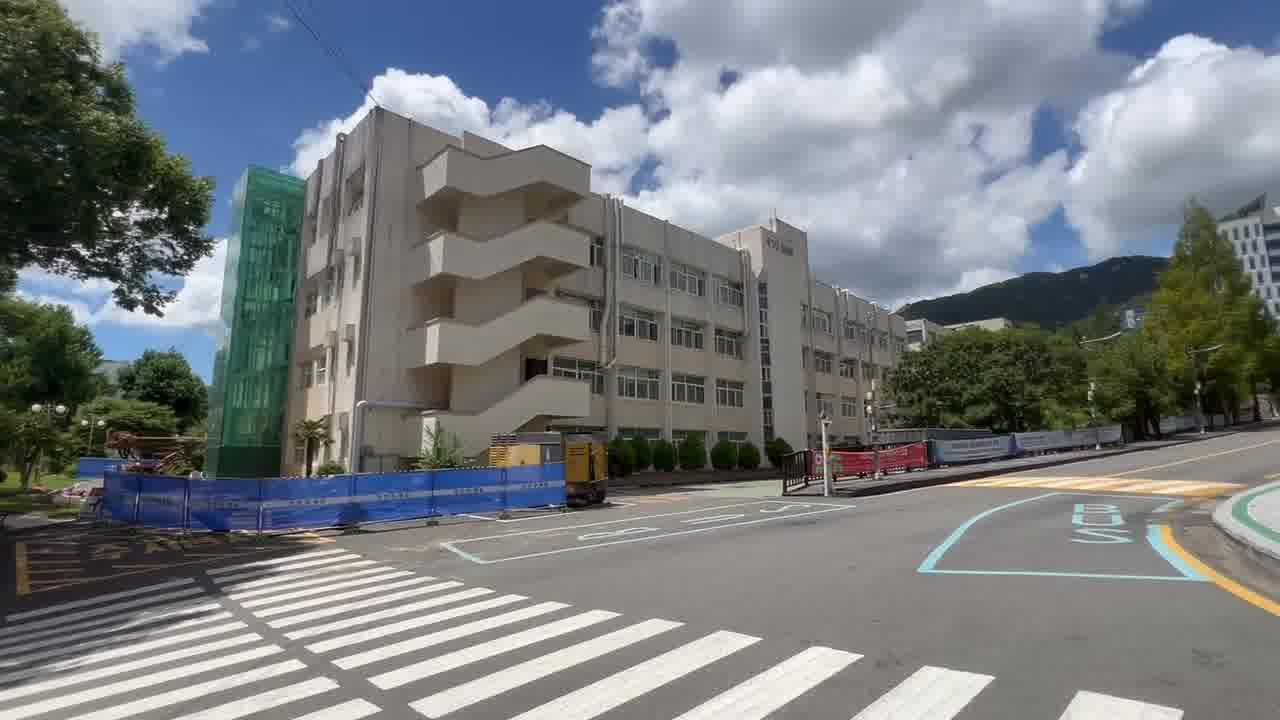building: (217, 133, 839, 454)
